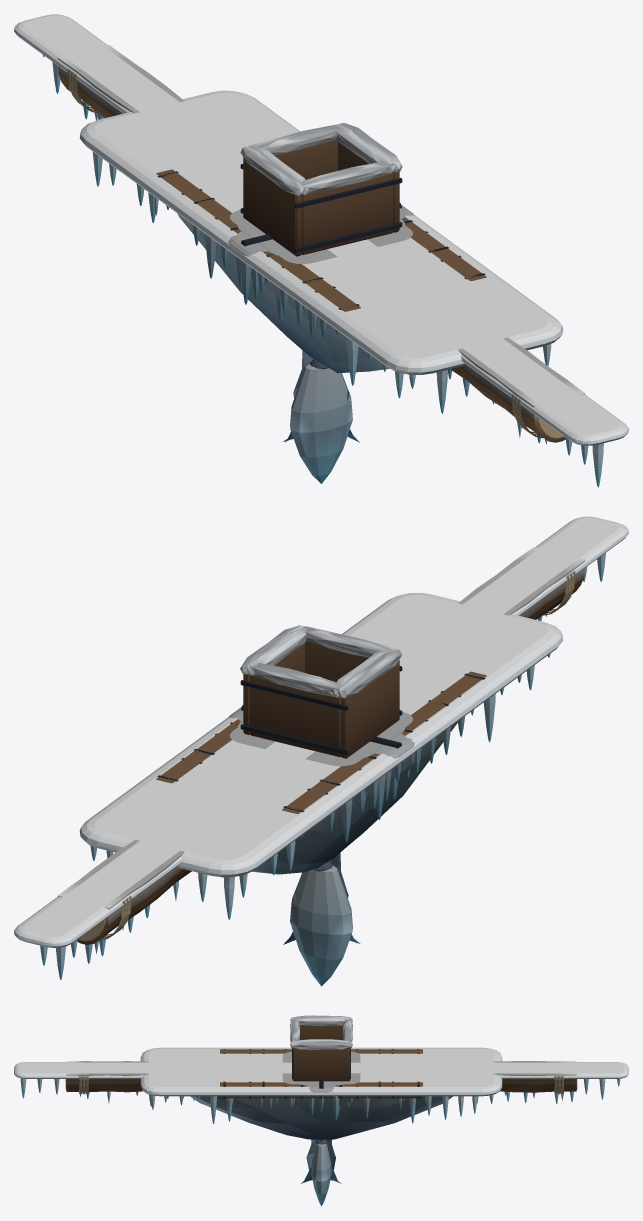
File: glacier-7-DoE9wzbX.glb
3 renders of one model, top to bottom at view 1: azimuth 30°, elevation 25°; view 2: azimuth 150°, elevation 25°; view 3: azimuth 270°, elevation 25°, orthographic. The views are drawn at different scales.
Parts seen in each view (by area): view 1: block_8x2x28#0, block_2.5x2x48_grate#0, hopper_3.6x3#0, blade_3x12x1#0, beam_2.5x1.5x40#0, belt_7x1.5x16x0#0, hopper_3x3#0, block_7x2x7#0, block_8x2x3#0; view 2: block_8x2x28#0, block_2.5x2x48_grate#0, hopper_3.6x3#0, blade_3x12x1#0, beam_2.5x1.5x40#0, belt_7x1.5x16x0#0, hopper_3x3#0, block_7x2x7#0, block_8x2x3#0; view 3: block_8x2x28#0, block_2.5x2x48_grate#0, beam_2.5x1.5x40#0, hopper_3.6x3#0, belt_7x1.5x16x0#0, hopper_3x3#0, blade_3x12x1#0, block_7x2x7#0, support_0_round#0.
Boxes of the visible parts, x1=… form: block_8x2x28#0: x1=79, y1=90, x2=563, y2=413; block_2.5x2x48_grate#0: x1=14, y1=14, x2=628, y2=487; hopper_3.6x3#0: x1=240, y1=123, x2=402, y2=256; blade_3x12x1#0: x1=290, y1=359, x2=352, y2=483; beam_2.5x1.5x40#0: x1=57, y1=45, x2=585, y2=444; belt_7x1.5x16x0#0: x1=154, y1=169, x2=486, y2=335; hopper_3x3#0: x1=249, y1=124, x2=395, y2=254; block_7x2x7#0: x1=230, y1=209, x2=412, y2=322; block_8x2x3#0: x1=228, y1=205, x2=414, y2=304; block_8x2x28#0: x1=79, y1=592, x2=563, y2=919; block_2.5x2x48_grate#0: x1=14, y1=516, x2=628, y2=979; hopper_3.6x3#0: x1=240, y1=625, x2=402, y2=758; blade_3x12x1#0: x1=290, y1=861, x2=352, y2=986; beam_2.5x1.5x40#0: x1=57, y1=547, x2=585, y2=953; belt_7x1.5x16x0#0: x1=156, y1=671, x2=486, y2=822; hopper_3x3#0: x1=247, y1=627, x2=390, y2=757; block_7x2x7#0: x1=230, y1=712, x2=412, y2=812; block_8x2x3#0: x1=228, y1=707, x2=414, y2=819; block_8x2x28#0: x1=140, y1=1047, x2=502, y2=1139; block_2.5x2x48_grate#0: x1=14, y1=1062, x2=628, y2=1103; beam_2.5x1.5x40#0: x1=65, y1=1061, x2=577, y2=1103; hopper_3.6x3#0: x1=290, y1=1015, x2=352, y2=1081; belt_7x1.5x16x0#0: x1=219, y1=1049, x2=426, y2=1109; hopper_3x3#0: x1=290, y1=1017, x2=352, y2=1074; blade_3x12x1#0: x1=311, y1=1139, x2=331, y2=1206; block_7x2x7#0: x1=282, y1=1051, x2=360, y2=1117; support_0_round#0: x1=301, y1=1139, x2=341, y2=1183.
Size of the model in its own units: 8.36 by 15.38 by 48.22.
